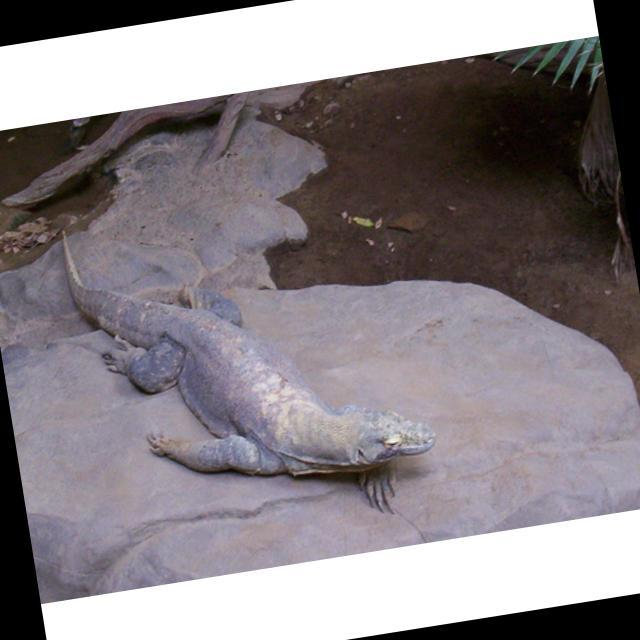KomodoDragon: (51, 169, 450, 565)
